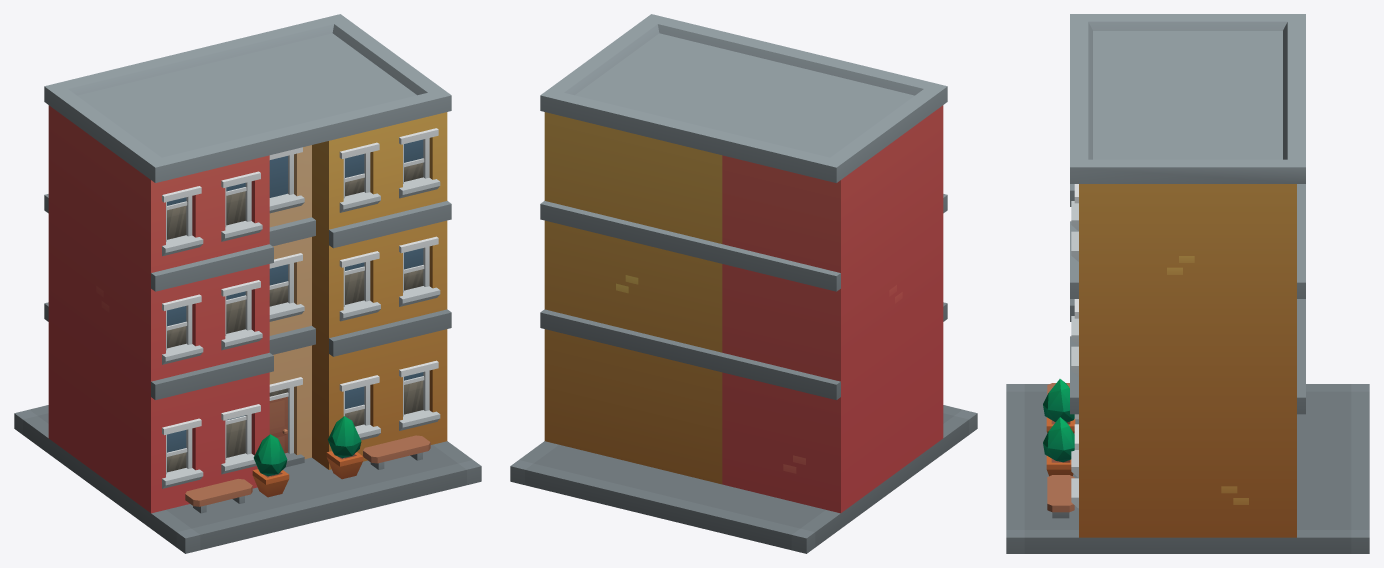
The model's file is building_F.obj.
3 renders of one model, left to right at view 1: azimuth 30°, elevation 25°; view 2: azimuth 150°, elevation 25°; view 3: azimuth 270°, elevation 25°, orthographic. The views are drawn at different scales.
Size of the model in its own units: 2.01 by 2.35 by 2.
1 material, 1 textured.
